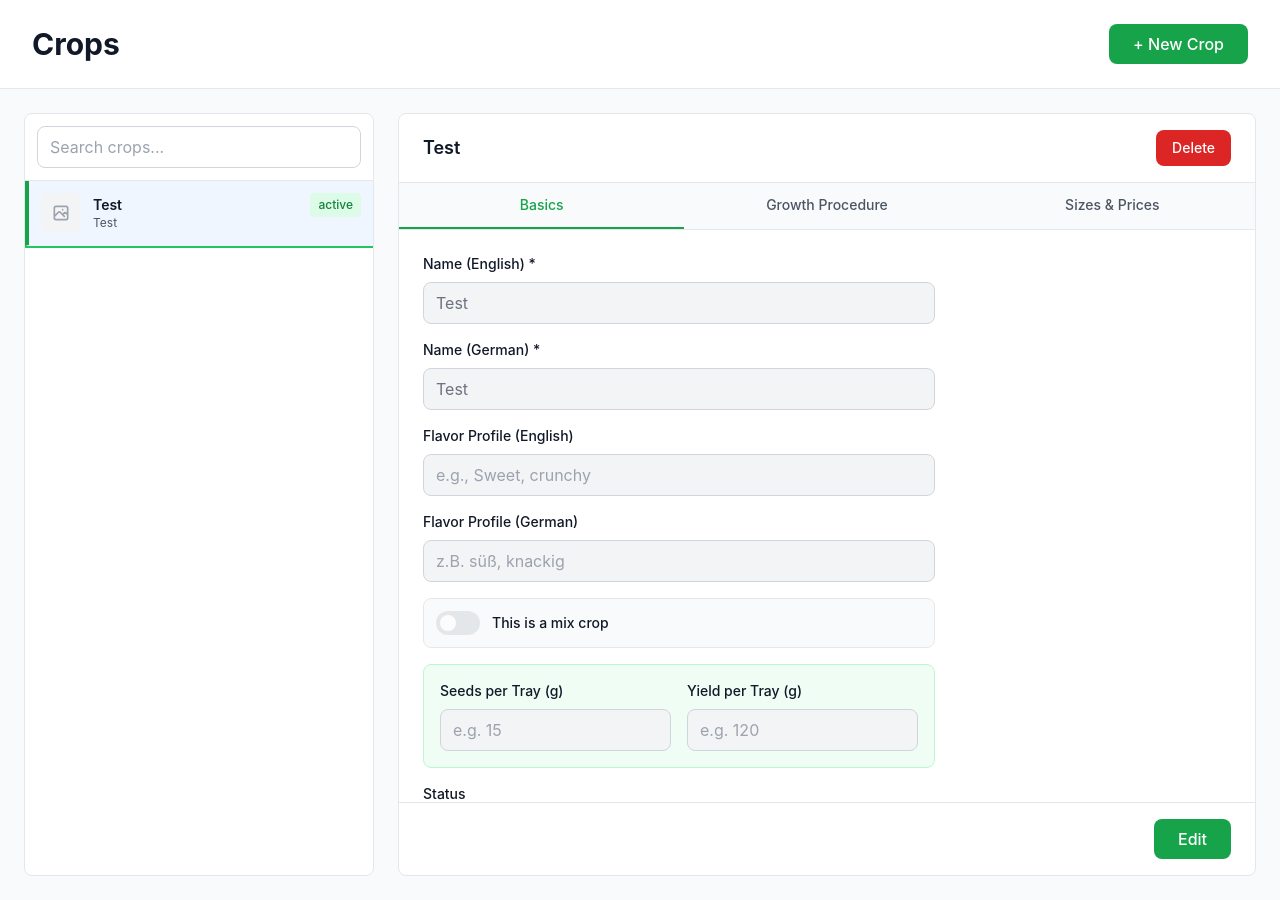
Test: AdminCropsPage › Sizes & Prices Tab › should add new variant when in edit mode
Earlier steps of the test are not shown.
Click the button "Sizes & Prices" at (1112, 206), box top-left (970, 183), bottom-right (1255, 229)
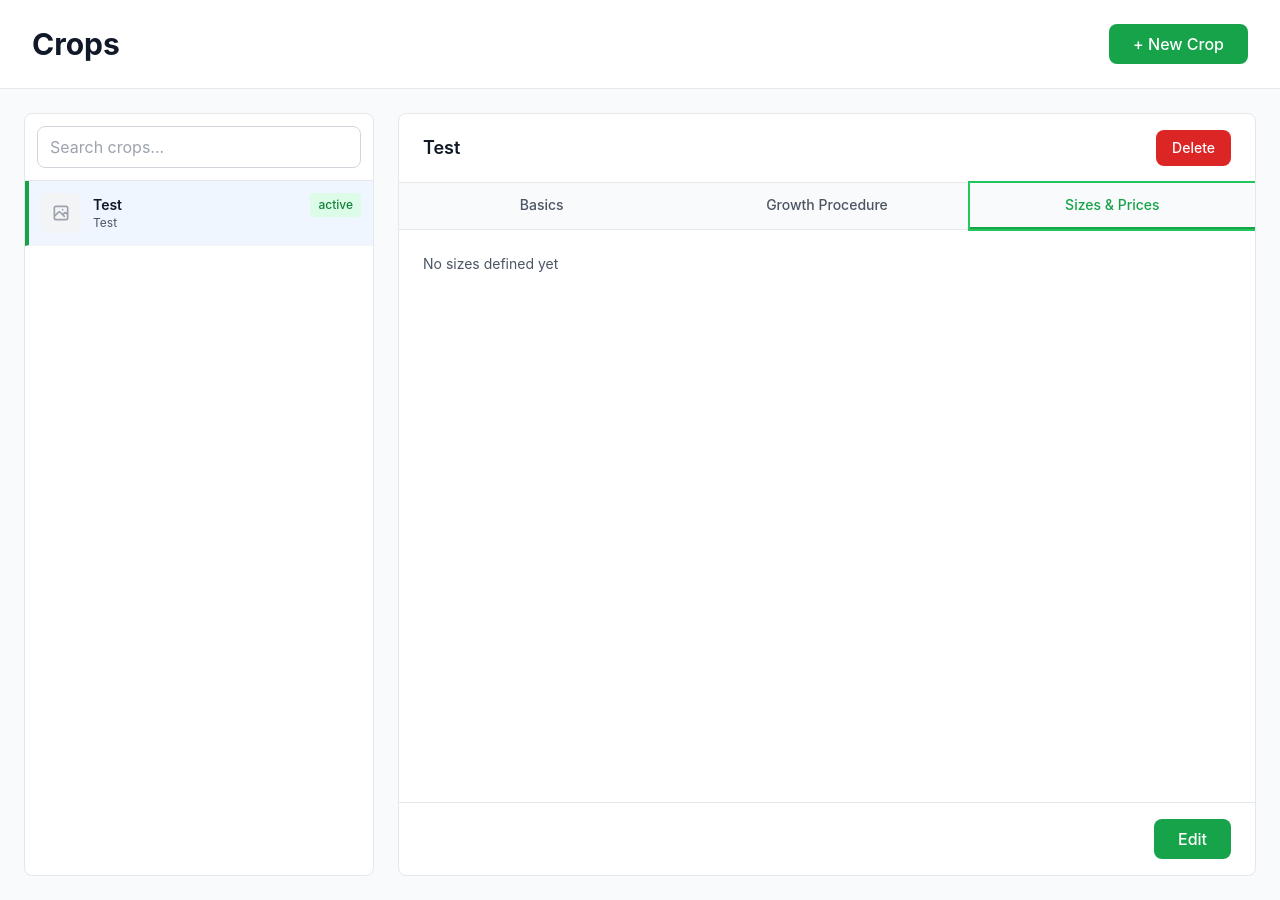
Click the button "Edit" at (1192, 839), box top-left (1154, 819), bottom-right (1231, 859)
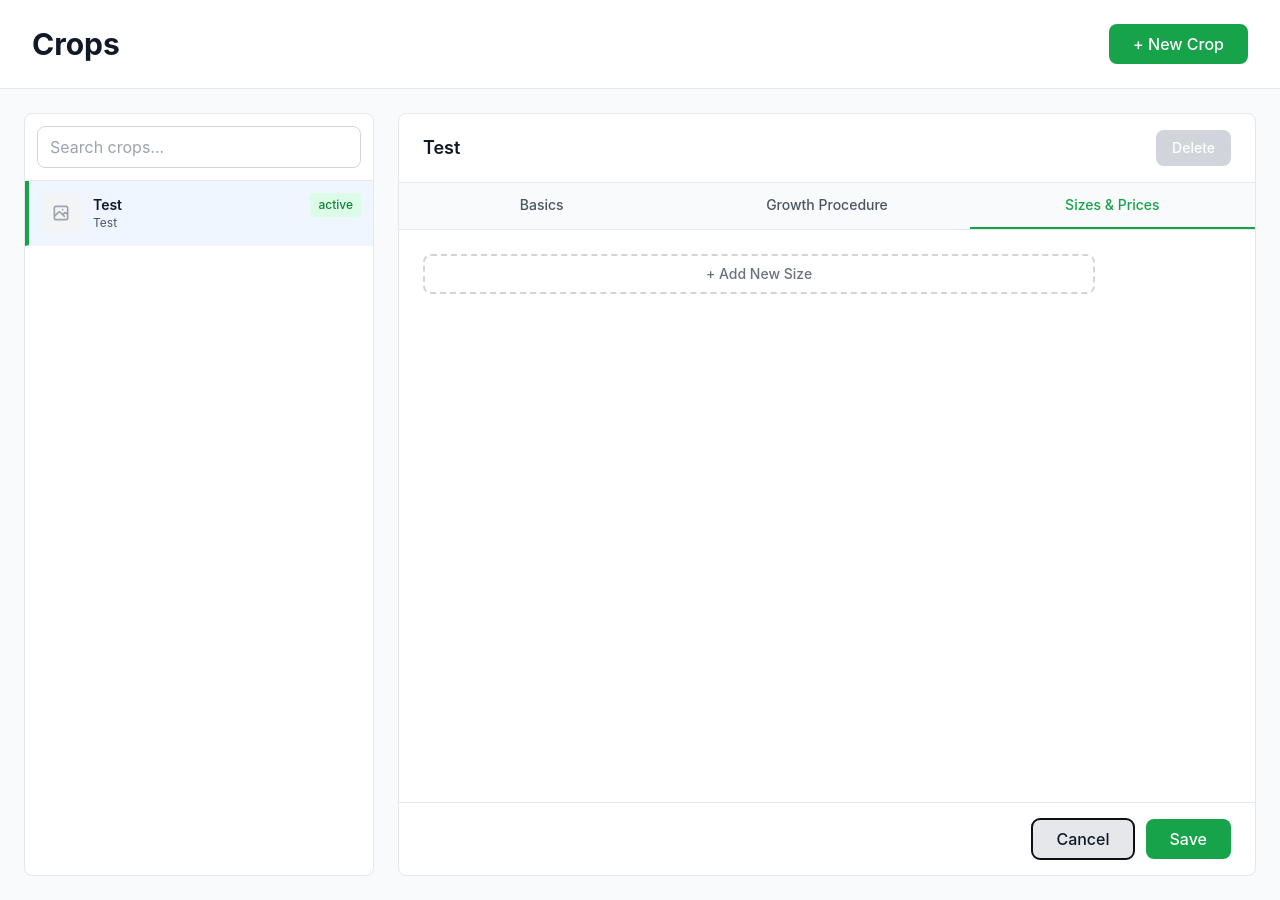
Click the button "+ Add New Size" at (759, 274), box top-left (423, 254), bottom-right (1095, 294)
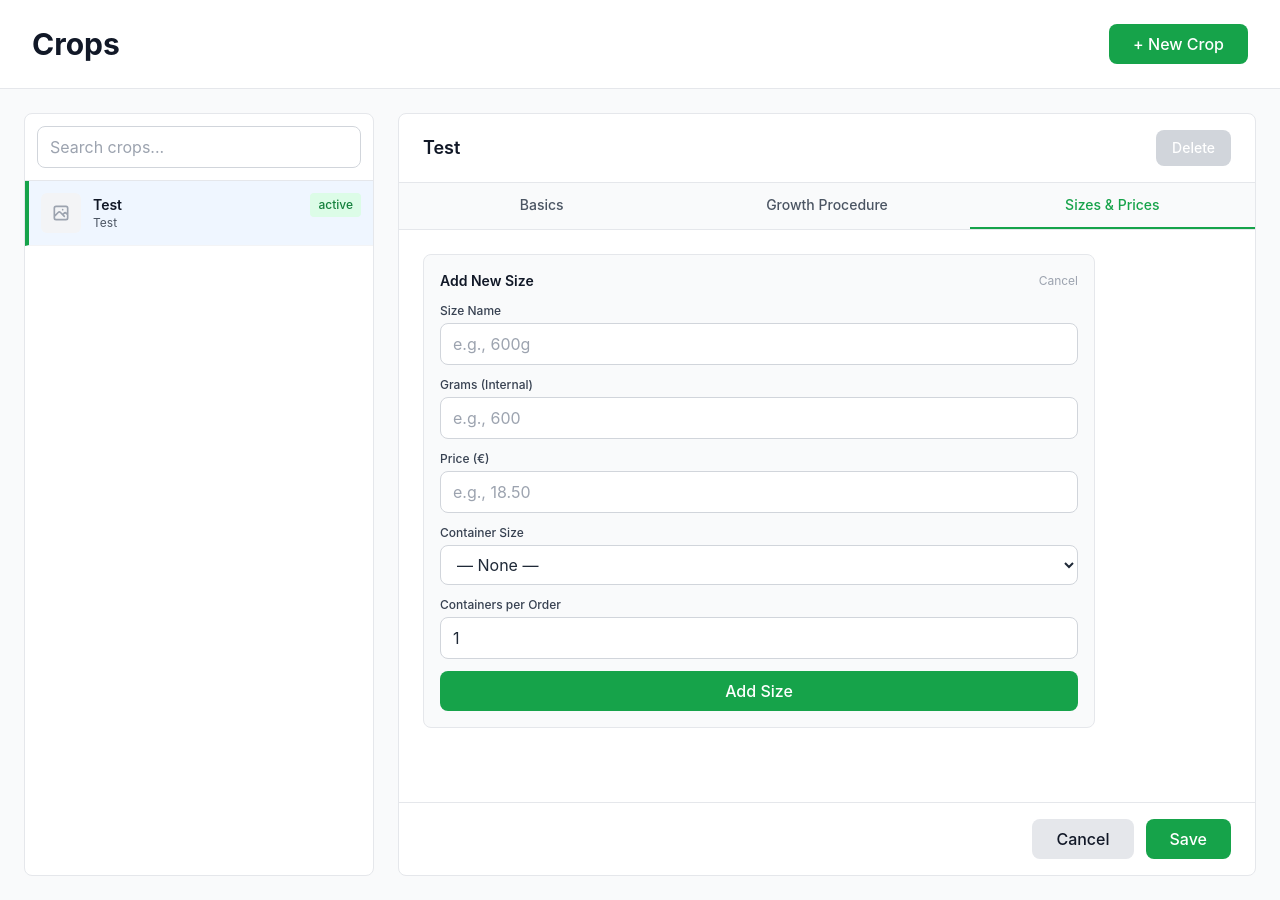
Type "600g" into the field with placeholder "e.g., 600g" at (759, 344), box top-left (440, 323), bottom-right (1078, 365)
Type "600" into the number field with placeholder "e.g., 600" at (759, 418), box top-left (440, 397), bottom-right (1078, 439)
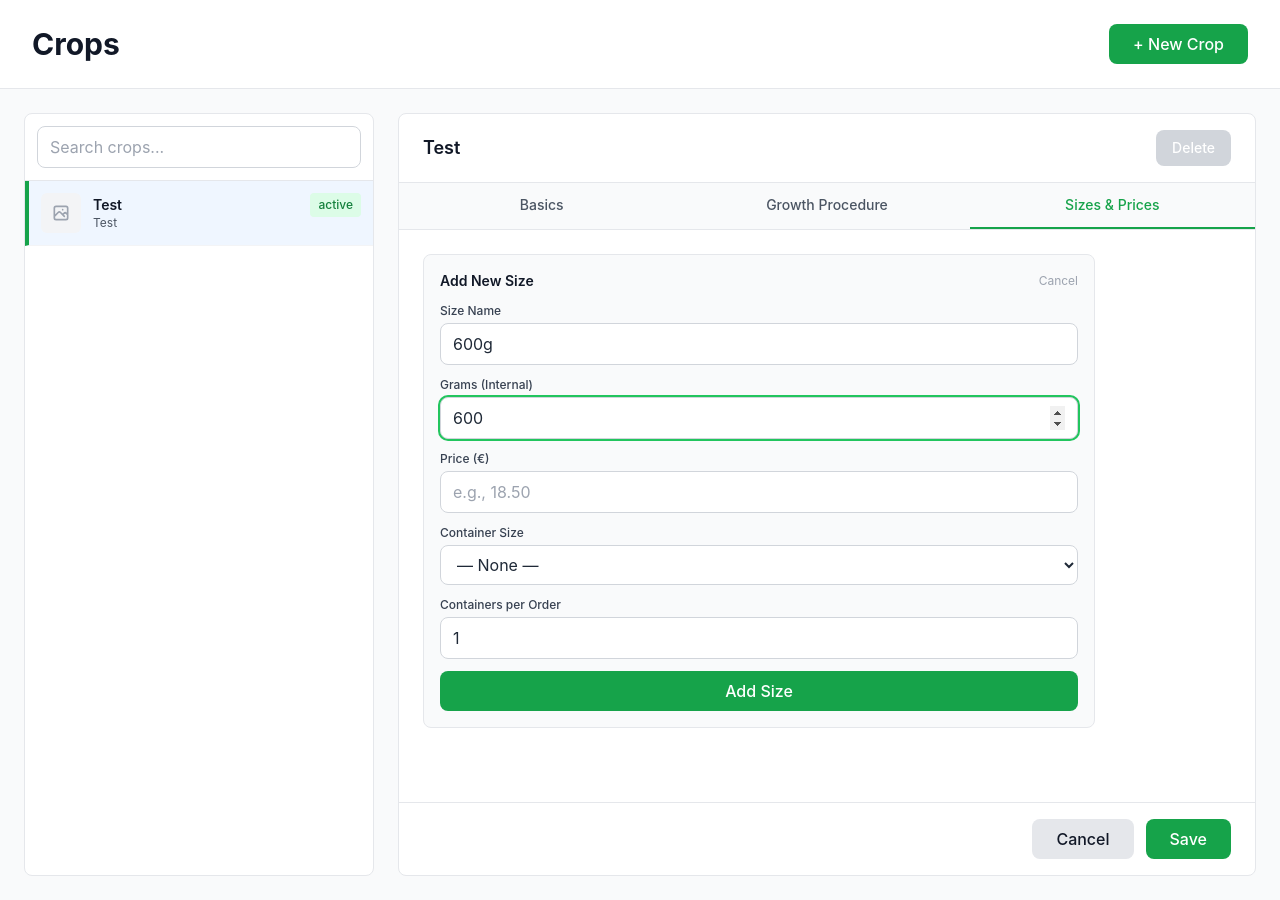
Type "18.50" into the number field with placeholder "e.g., 18.50" at (759, 492), box top-left (440, 471), bottom-right (1078, 513)
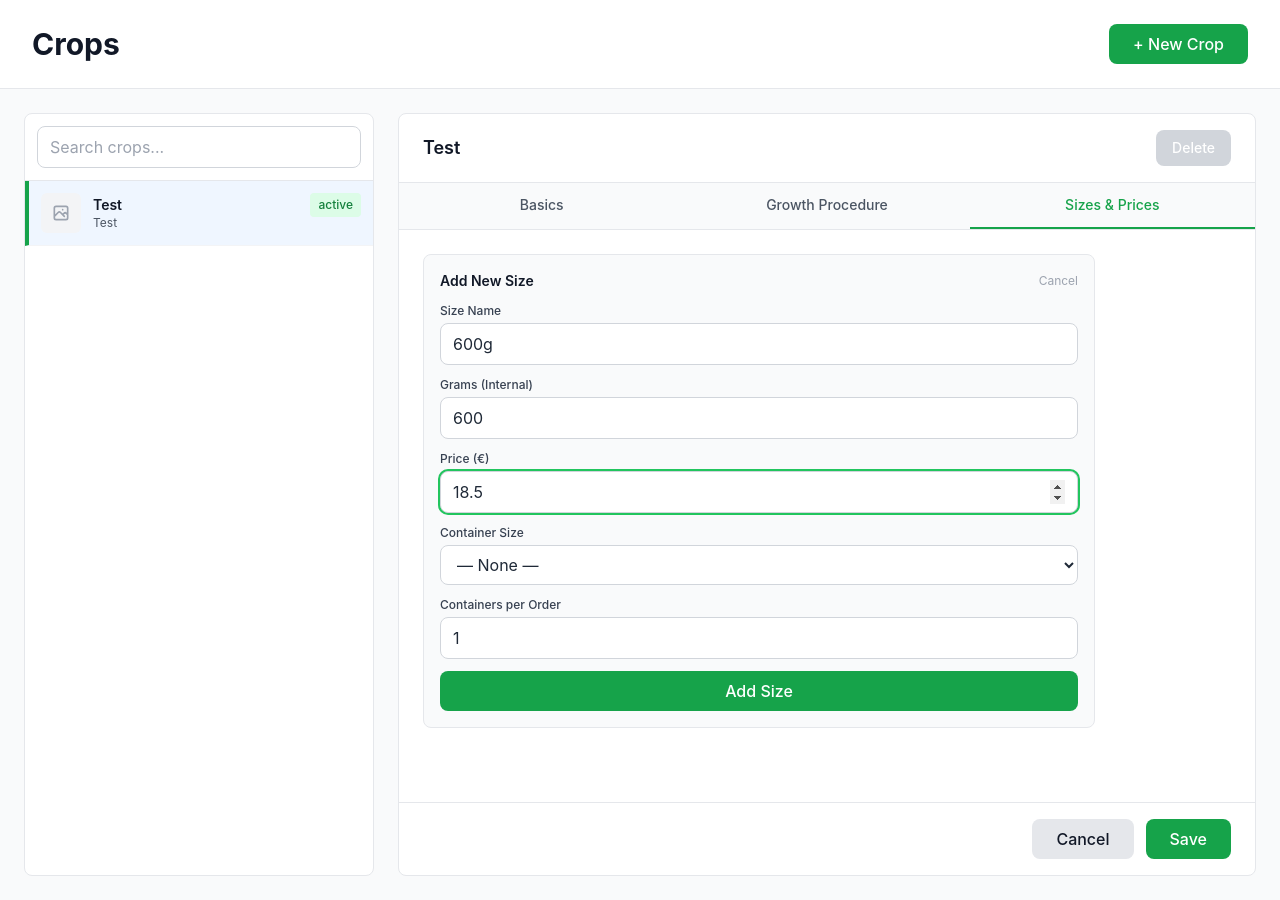
Click the button "Add Size" at (759, 691), box top-left (440, 671), bottom-right (1078, 711)
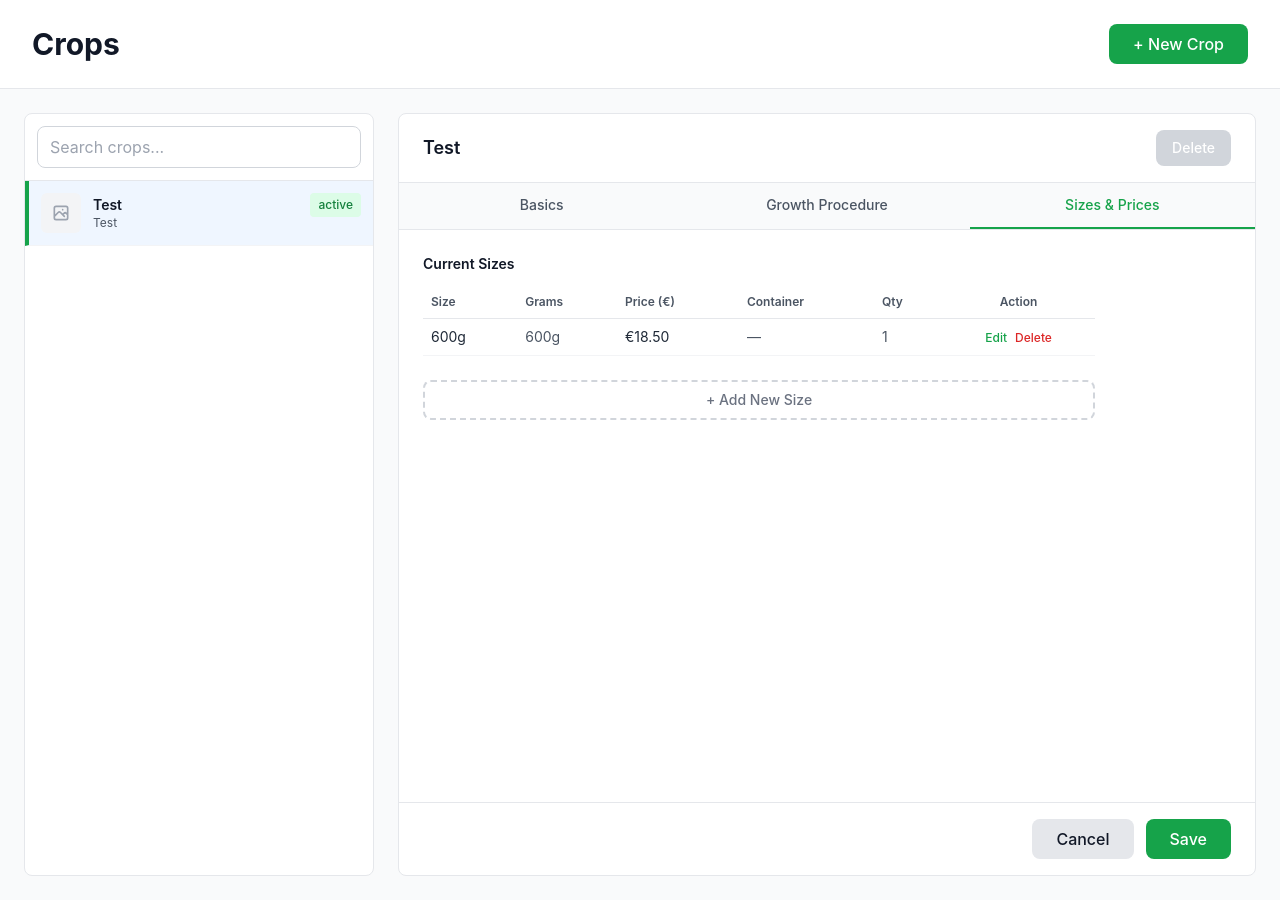
Result: the 1st text "600g" is shown at top-left (423, 318), bottom-right (517, 356)
